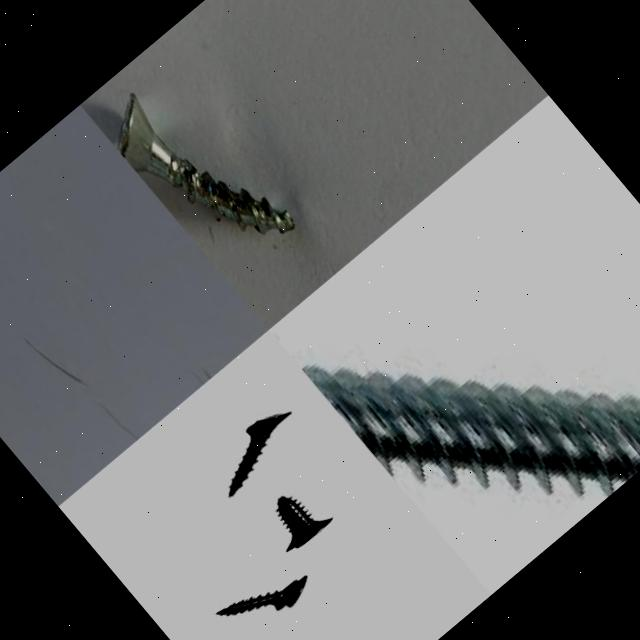Screw: (296, 361, 640, 498), (117, 93, 295, 234), (230, 409, 292, 495), (218, 574, 309, 614), (278, 495, 334, 550)
